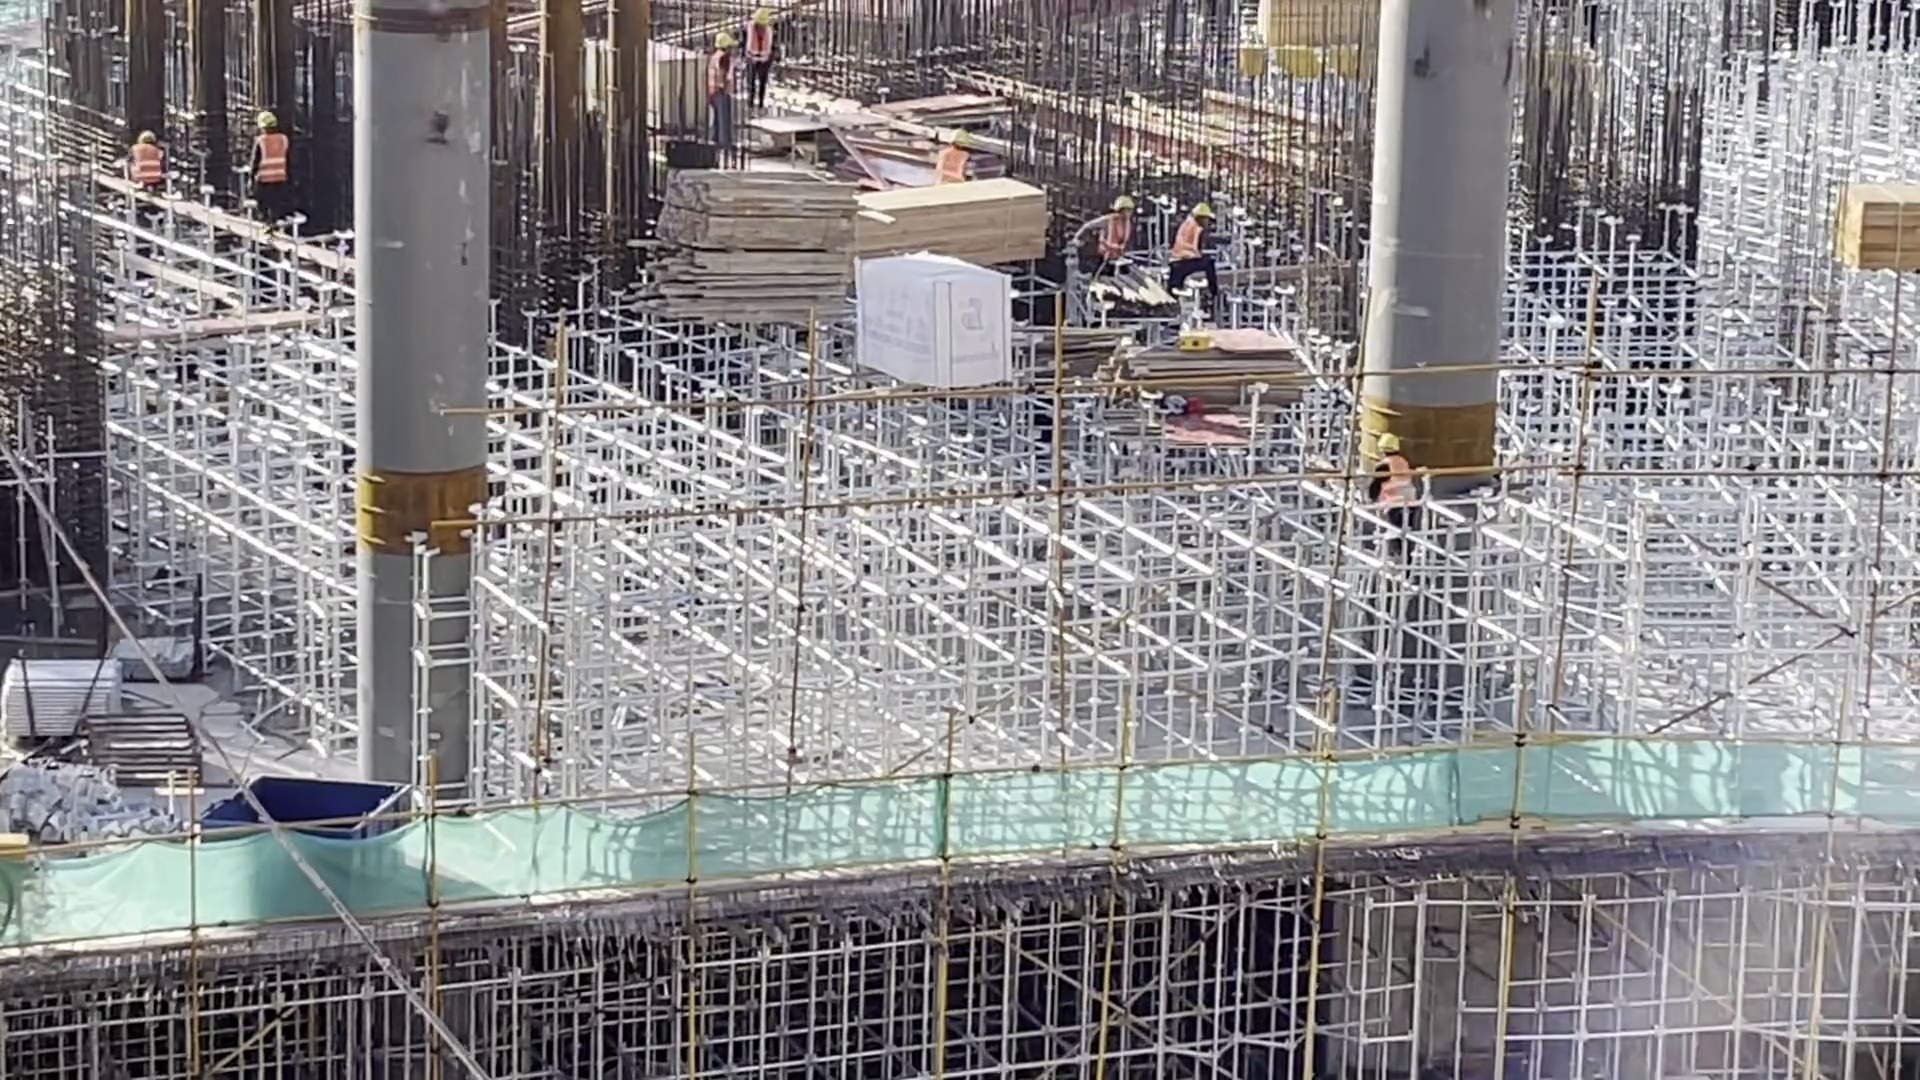board: (1105, 325, 1308, 415)
cutter: (754, 101, 895, 174)
helmet: (1379, 431, 1399, 457), (251, 111, 277, 127)
hopper: (199, 777, 420, 832)
person: (1079, 193, 1137, 277), (1167, 200, 1219, 296), (1367, 431, 1417, 521), (251, 112, 290, 223), (705, 31, 739, 152), (742, 9, 775, 108), (126, 128, 169, 199), (937, 128, 976, 186)
vest: (255, 134, 288, 184), (1173, 216, 1203, 268), (1100, 215, 1128, 268), (941, 148, 970, 184), (133, 143, 163, 177), (744, 24, 770, 56)
wood: (646, 163, 854, 343), (855, 178, 1051, 274), (1837, 179, 1920, 282), (1251, 1, 1386, 61)
